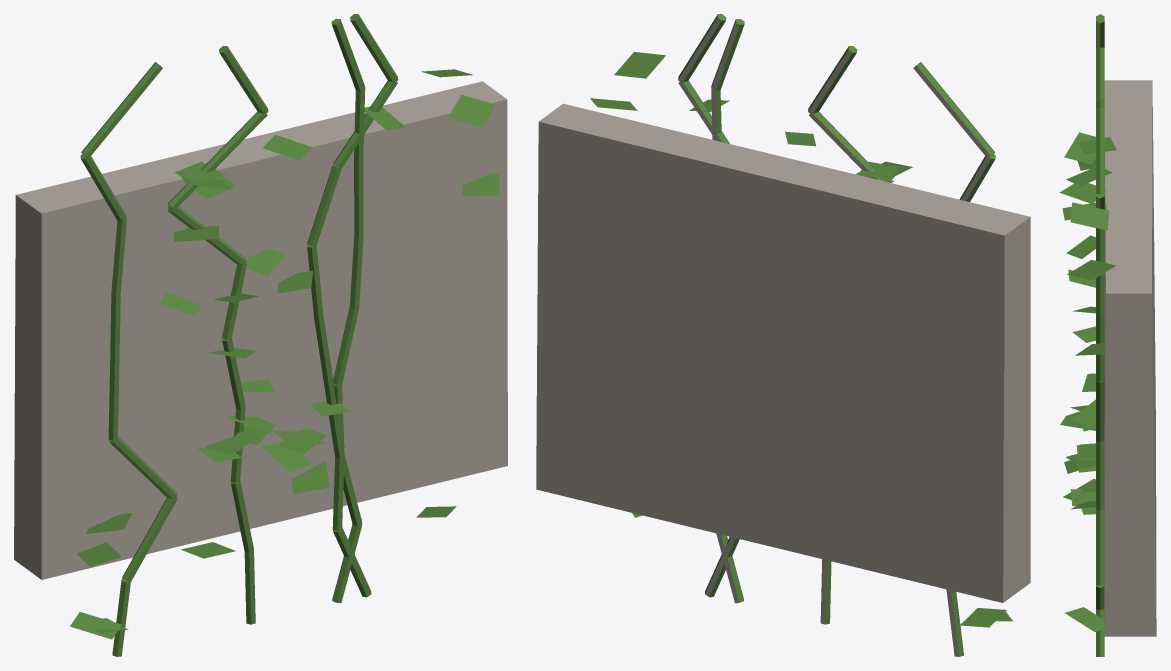
Rendered from ivy_wall.fbx.
3 views of the same model, side by side, from view 1: azimuth 30°, elevation 25°; view 2: azimuth 150°, elevation 25°; view 3: azimuth 270°, elevation 25° (orthographic). The views are drawn at different scales.
Parts seen in each view (by area): view 1: ivy_wall; view 2: ivy_wall; view 3: ivy_wall.
Boxes of the visible parts, x1,y1,x2,y2 form: ivy_wall: [14, 14, 507, 656]; ivy_wall: [536, 14, 1030, 656]; ivy_wall: [1059, 14, 1156, 656].
Bounding box in the file's own units: 0.8 × 0.959 × 0.1539.
